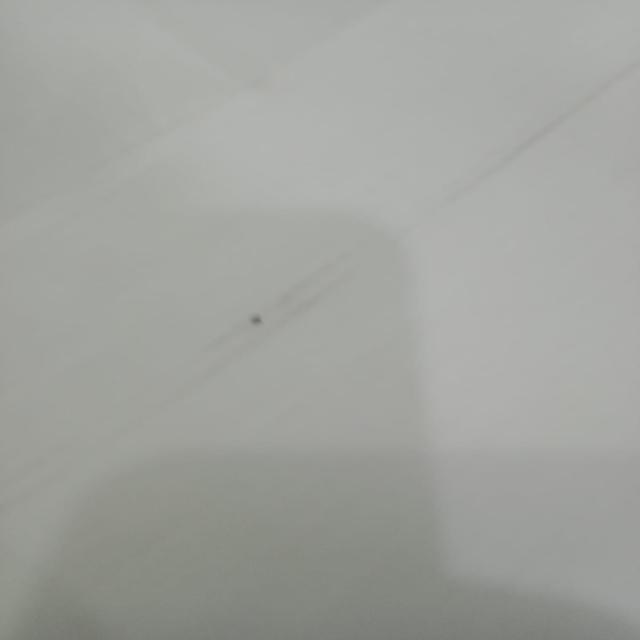stain: (466, 73, 625, 203), (224, 300, 292, 345)
